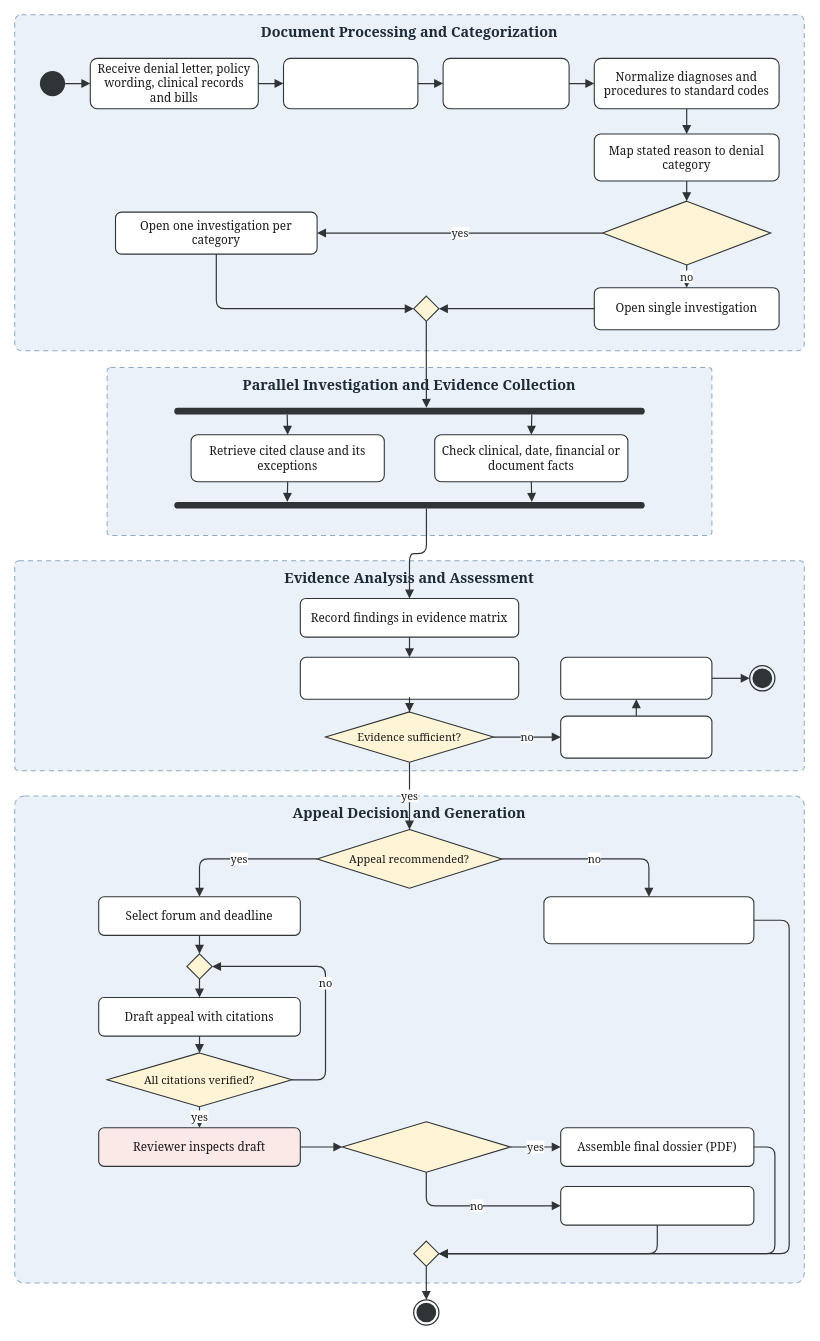
This 820x1341 diagram has some shape labels left out. The centre of each missing label's shape, as x and y in pixels:
Evaluate rules and build Toulmin argument: point 409,677
Explain why denial appears justified: point 648,920
Extract entities and dates: point 505,83
More than one category?: point 686,232
Parse documents (text / OCR): point 350,83
Report open questions: point 636,677
Request missing documents: point 636,736
Reviewer approves?: point 425,1146
Reviewer edits or rejects: point 657,1205
